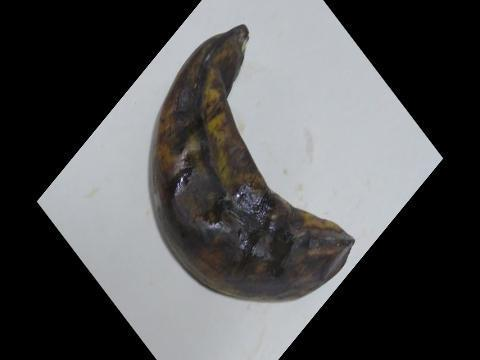rotten: (134, 14, 363, 313)
